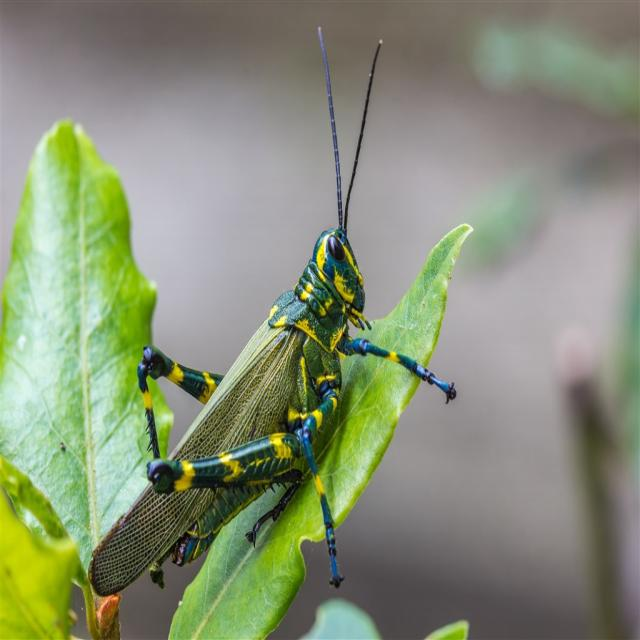ZhaMeng: (77, 186, 419, 622)
